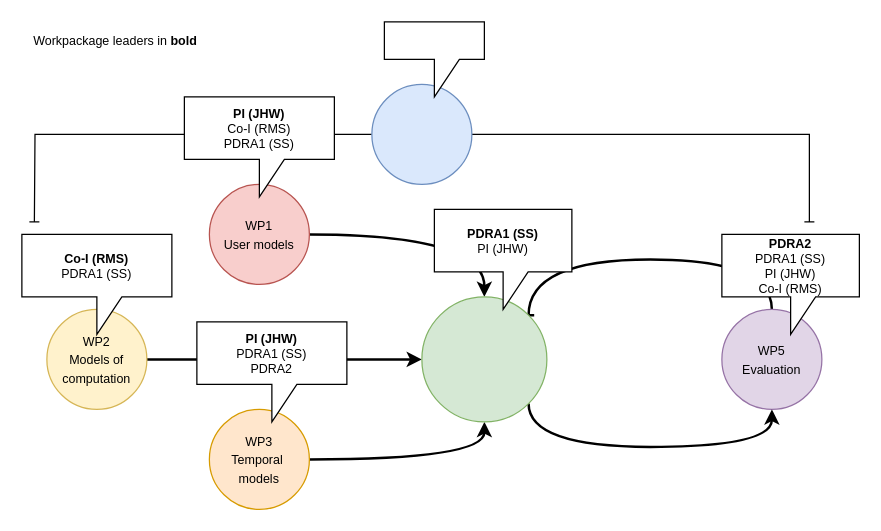
Some shapes in this 881 by 531 pixel diagram are drawn without their labels. The centre of each missing label's shape, as x and y in pixels:
"PI (JHW)" goes at (x=433, y=59).
"WP4 Visualisation and interaction" goes at (x=484, y=359).
"WP6 Management" goes at (x=421, y=133).
